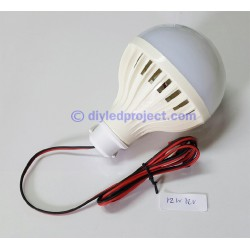Light_bulb: (85, 19, 229, 160)
